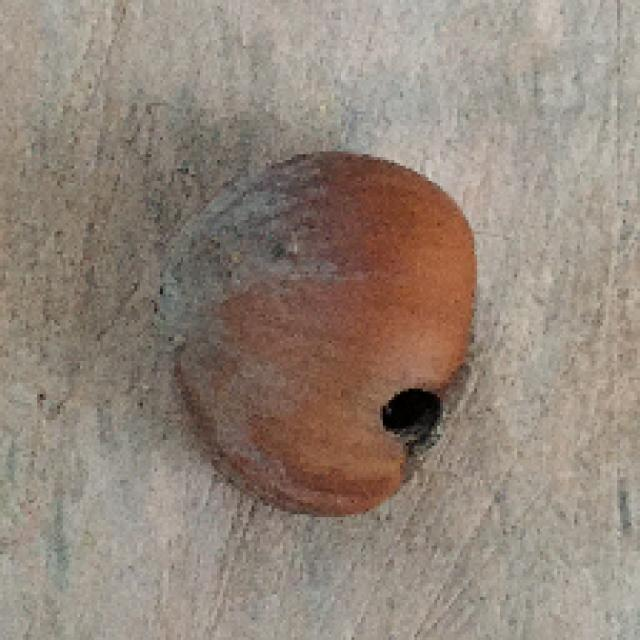DamagedHazelnut: (164, 152, 477, 510)
